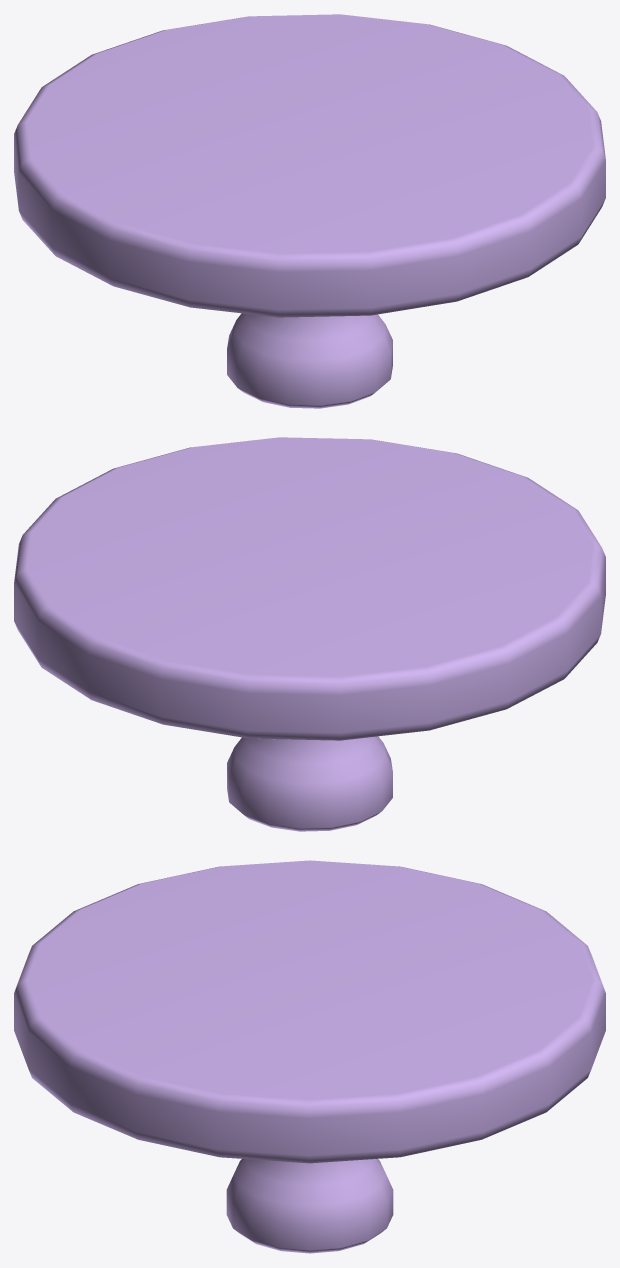
File: Table_2.glb
3 renders of one model, top to bottom at view 1: azimuth 30°, elevation 25°; view 2: azimuth 150°, elevation 25°; view 3: azimuth 270°, elevation 25°, orthographic.
Parts seen in each view (by area): view 1: Table_2; view 2: Table_2; view 3: Table_2.
Boxes of the visible parts, left/top/right/bottom form: Table_2: left=14, top=14, right=605, bottom=408; Table_2: left=14, top=437, right=605, bottom=831; Table_2: left=14, top=860, right=605, bottom=1253.
Bounding box in the file's own units: 1.65 × 0.7407 × 1.65.
1 material, 1 textured.
